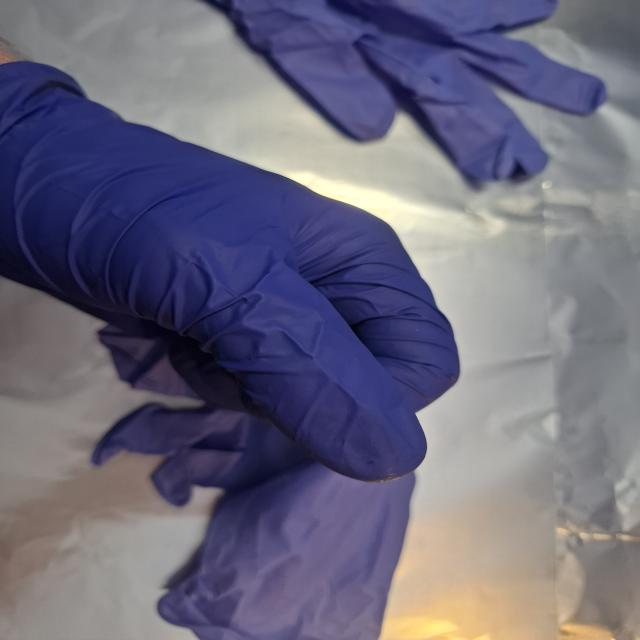glove_on: (0, 58, 464, 484)
